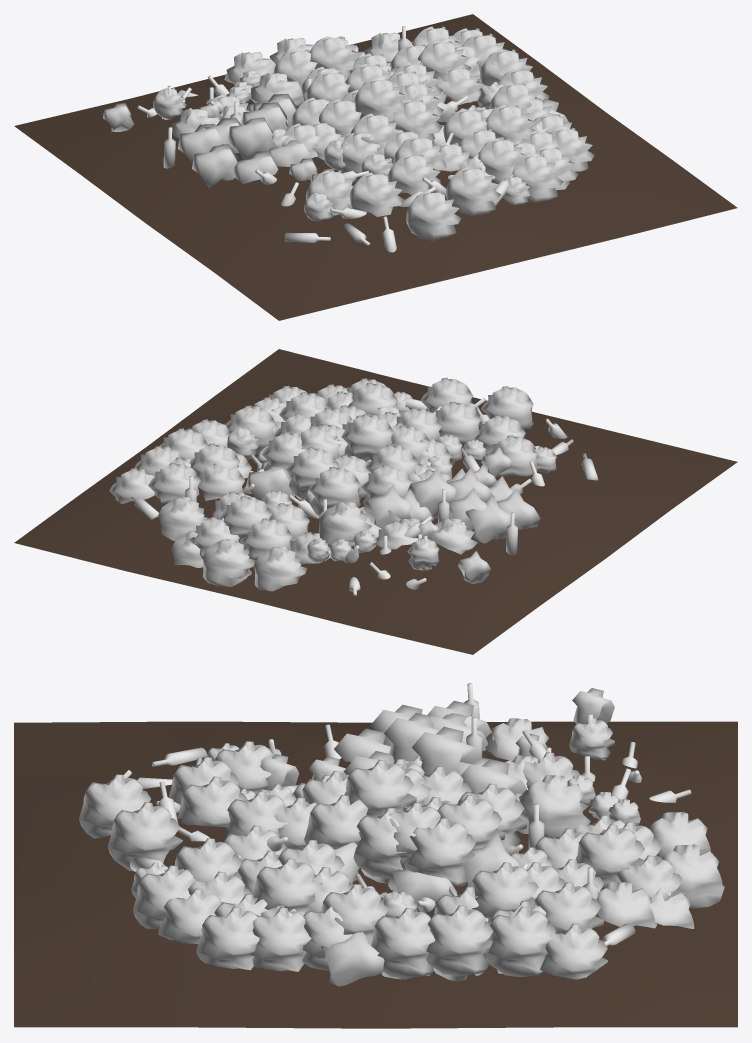
Rendered from TrashHeap2.fbx.
3 renders of one model, top to bottom at view 1: azimuth 30°, elevation 25°; view 2: azimuth 150°, elevation 25°; view 3: azimuth 270°, elevation 25°, orthographic. The views are drawn at different scales.
Parts seen in each view (by area): view 1: Ground, TrashB.015, TrashB.033, TrashB.074, TrashB.061, TrashB.044, TrashB.010, TrashA.021, TrashA.004, TrashB.049, TrashB.048, TrashB.041 (+42 smaller); view 2: Ground, TrashB.023, TrashB.022, TrashB.044, TrashB.058, TrashB.027, TrashB.069, TrashB.075, TrashB.015, TrashB.010, TrashB.051, TrashB.054 (+40 smaller); view 3: Ground, TrashB.067, TrashB.066, TrashB.065, TrashB.033, TrashB.071, TrashB.063, TrashB.027, TrashB.009, TrashB.044, TrashB.015, TrashB.035 (+56 smaller).
Boxes of the visible parts, left/top/right/bottom form: Ground: left=14, top=14, right=737, bottom=320; TrashB.015: left=406, top=191, right=461, bottom=241; TrashB.033: left=445, top=167, right=500, bottom=216; TrashB.074: left=349, top=172, right=404, bottom=216; TrashB.061: left=512, top=154, right=563, bottom=202; TrashB.044: left=354, top=78, right=406, bottom=122; TrashB.010: left=388, top=154, right=440, bottom=195; TrashA.021: left=227, top=117, right=276, bottom=159; TrashA.004: left=192, top=144, right=237, bottom=187; TrashB.049: left=485, top=105, right=537, bottom=142; TrashB.048: left=478, top=138, right=526, bottom=183; TrashB.041: left=392, top=99, right=442, bottom=143; Ground: left=14, top=349, right=737, bottom=654; TrashB.023: left=203, top=539, right=255, bottom=586; TrashB.022: left=254, top=546, right=306, bottom=591; TrashB.044: left=341, top=414, right=393, bottom=462; TrashB.058: left=308, top=466, right=360, bottom=516; TrashB.027: left=319, top=502, right=371, bottom=547; TrashB.069: left=286, top=447, right=339, bottom=499; TrashB.075: left=158, top=497, right=209, bottom=540; TrashB.015: left=481, top=386, right=533, bottom=428; TrashB.010: left=435, top=401, right=481, bottom=443; TrashB.051: left=148, top=462, right=200, bottom=504; TrashB.054: left=219, top=496, right=271, bottom=549; Ground: left=14, top=721, right=737, bottom=1028; TrashB.067: left=426, top=905, right=493, bottom=981; TrashB.066: left=485, top=906, right=556, bottom=976; TrashB.065: left=371, top=907, right=435, bottom=979; TrashB.033: left=107, top=802, right=182, bottom=871; TrashB.071: left=404, top=818, right=476, bottom=886; TrashB.063: left=196, top=907, right=259, bottom=970; TrashB.027: left=519, top=775, right=590, bottom=838; TrashB.009: left=249, top=907, right=311, bottom=971; TrashB.044: left=344, top=759, right=416, bottom=817; TrashB.015: left=79, top=774, right=150, bottom=838; TrashB.035: left=540, top=923, right=607, bottom=979.
Size of the model in its own units: 19.03 by 19.03 by 4.31.
